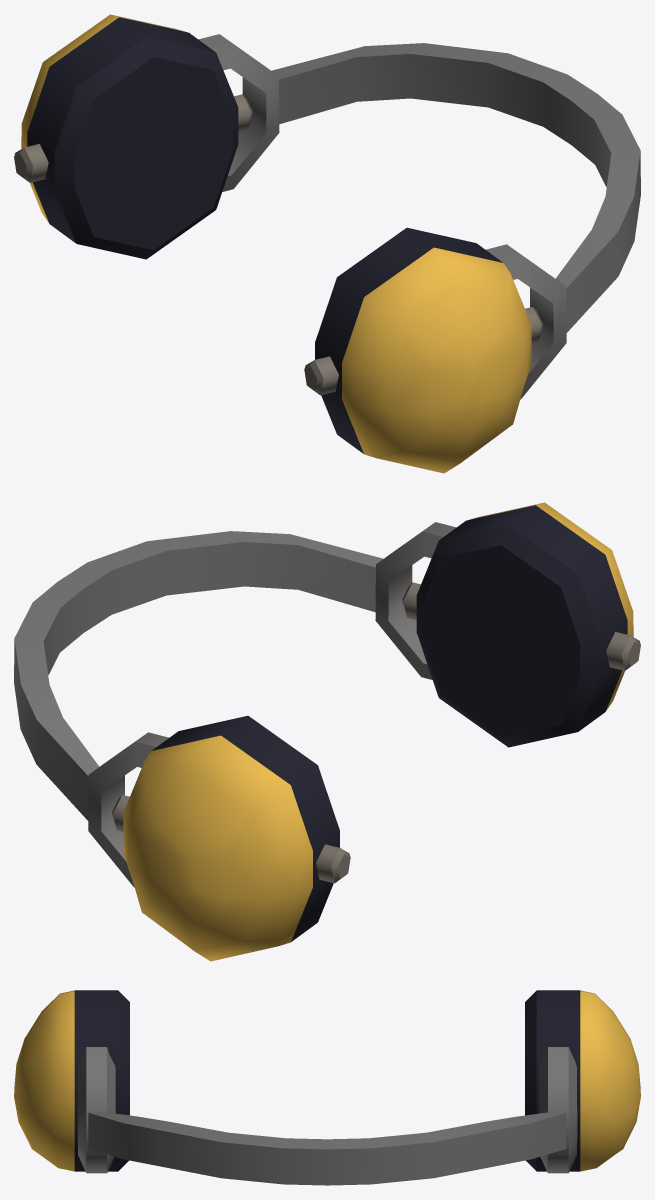
Rendered from EarMuffs_Helmet_1.fbx.
3 views of the same model, one above another, from view 1: azimuth 30°, elevation 25°; view 2: azimuth 150°, elevation 25°; view 3: azimuth 270°, elevation 25° (orthographic). The views are drawn at different scales.
Visible parts, largest first — view 1: EarMuffs_Helmet_1; view 2: EarMuffs_Helmet_1; view 3: EarMuffs_Helmet_1.
Boxes of the visible parts, x1,y1,x2,y2 form: EarMuffs_Helmet_1: (14, 14, 640, 473); EarMuffs_Helmet_1: (14, 502, 640, 961); EarMuffs_Helmet_1: (14, 990, 640, 1185).
Bounding box in the file's own units: 44.17 × 21.72 × 69.05.
